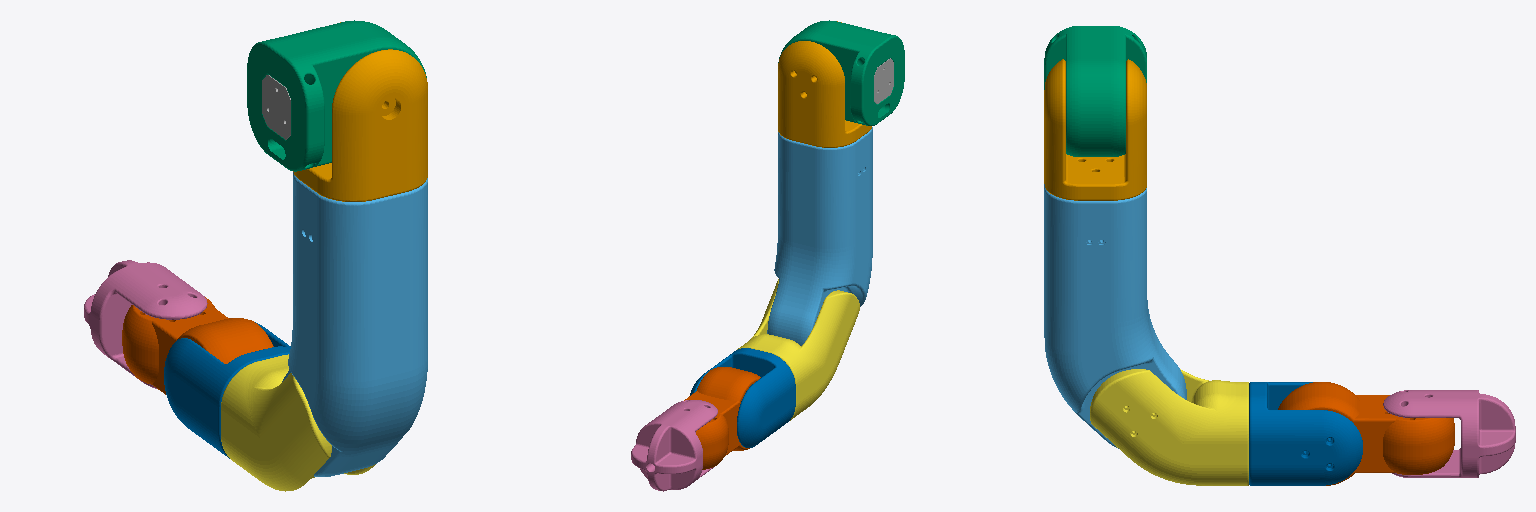
URDF robot description (7dof_arm_urdf):
<?xml version='1.0' encoding='utf-8'?>
<robot name="7dof_arm_urdf">
    <link name="link_2">
        <inertial>
            <origin xyz="-1.7693991036793477e-08 0.030447123216703793 -0.021207057709841323" rpy="0.0 3.068183415811079e-92 0.0" />
            <mass value="1.4180166849051117" />
            <inertia ixx="0.0024972293827466565" iyy="0.0018679172081846728" izz="0.0019315417071146968" ixy="1.6185008238148169e-10" iyz="0.0001634853989722477" ixz="-3.0395039837902843e-10" />
        </inertial>
        <visual name="link_2_visual">
            <origin xyz="2.338000895107939e-09 0.06749999625744532 -0.024999998100069157" rpy="1.5707963267948972 -1.0547118733939009e-15 -1.1832913578315205e-30" />
            <geometry>
                <mesh filename="meshes/link_2.stl" scale="0.001 0.001 0.001" />
            </geometry>
        </visual>
        <collision name="link_2_collision">
            <origin xyz="2.338000895107939e-09 0.06749999625744532 -0.024999998100069157" rpy="1.5707963267948972 -1.0547118733939009e-15 -1.1832913578315205e-30" />
            <geometry>
                <mesh filename="meshes/link_2.stl" scale="0.001 0.001 0.001" />
            </geometry>
        </collision>
    </link>
    <link name="link_3">
        <inertial>
            <origin xyz="-0.0009218627484753661 -0.007510193707583538 0.11383274087448687" rpy="0.0 -0.0 -2.0237541073208316e-122" />
            <mass value="2.848249425843059" />
            <inertia ixx="0.016481837841075098" iyy="0.01562585430140996" izz="0.005075439922028" ixy="-7.606917345098036e-05" iyz="0.0017324977563032812" ixz="0.0002262609093790502" />
        </inertial>
        <visual name="link_3_visual">
            <origin xyz="2.337996063417336e-09 -1.899930914817105e-09 -3.742554604002635e-09" rpy="-3.1415926535897922 -3.301015452773867e-15 -1.5707963267948972" />
            <geometry>
                <mesh filename="meshes/link_3.stl" scale="0.001 0.001 0.001" />
            </geometry>
        </visual>
        <collision name="link_3_collision">
            <origin xyz="2.337996063417336e-09 -1.899930914817105e-09 -3.742554604002635e-09" rpy="-3.1415926535897922 -3.301015452773867e-15 -1.5707963267948972" />
            <geometry>
                <mesh filename="meshes/link_3.stl" scale="0.001 0.001 0.001" />
            </geometry>
        </collision>
    </link>
    <link name="link_1">
        <inertial>
            <origin xyz="0.0006194072793618363 -0.001889358035801337 -0.0419160487646974" rpy="0.0 -0.0 0.0" />
            <mass value="1.3925275103020305" />
            <inertia ixx="0.002315118342215877" iyy="0.002717668816947608" izz="0.0016480250709600718" ixy="-1.6163633902592246e-06" iyz="-7.612479254556377e-05" ixz="-2.9672397305629764e-05" />
        </inertial>
        <visual name="link_1_visual">
            <origin xyz="3.742554532948361e-09 1.8999353557092036e-09 -2.3379961433533937e-09" rpy="-3.944304526105062e-31 1.5707963267948954 0" />
            <geometry>
                <mesh filename="meshes/link_1.stl" scale="0.001 0.001 0.001" />
            </geometry>
        </visual>
        <collision name="link_1_collision">
            <origin xyz="3.742554532948361e-09 1.8999353557092036e-09 -2.3379961433533937e-09" rpy="-3.944304526105062e-31 1.5707963267948954 0" />
            <geometry>
                <mesh filename="meshes/link_1.stl" scale="0.001 0.001 0.001" />
            </geometry>
        </collision>
    </link>
    <link name="link_4">
        <inertial>
            <origin xyz="-0.0231322409500729 -0.018212359551176577 -0.030572046034022114" rpy="0.0 -1.9446922743316068e-62 0.0" />
            <mass value="1.5395203844081724" />
            <inertia ixx="0.0029300891820533415" iyy="0.0031140632140326807" izz="0.002525997748660219" ixy="-5.289277398713016e-05" iyz="-0.000706407117841569" ixz="-9.224090249769414e-05" />
        </inertial>
        <visual name="link_4_visual">
            <origin xyz="-0.024999997662003892 -0.031715725009982945 -0.09171573065246992" rpy="-1.570796326794896 1.042467280415076e-15 -8.035944325293711e-16" />
            <geometry>
                <mesh filename="meshes/link_4.stl" scale="0.001 0.001 0.001" />
            </geometry>
        </visual>
        <collision name="link_4_collision">
            <origin xyz="-0.024999997662003892 -0.031715725009982945 -0.09171573065246992" rpy="-1.570796326794896 1.042467280415076e-15 -8.035944325293711e-16" />
            <geometry>
                <mesh filename="meshes/link_4.stl" scale="0.001 0.001 0.001" />
            </geometry>
        </collision>
    </link>
    <link name="link_5">
        <inertial>
            <origin xyz="0.003070157025462681 -5.774206357500589e-09 0.034789253571534555" rpy="0.0 -0.0 0.0" />
            <mass value="1.0531225783475597" />
            <inertia ixx="0.001113284255963104" iyy="0.0015474869862993415" izz="0.0012344104990592991" ixy="-1.590082232549861e-13" iyz="-1.7569661003857817e-11" ixz="-8.100835219155937e-05" />
        </inertial>
        <visual name="link_5_visual">
            <origin xyz="2.3379961433533937e-09 -4.990017039574468e-09 6.524698825671749e-10" rpy="1.5707963267948941 -1.332267629550185e-15 8.0359443252937215e-16" />
            <geometry>
                <mesh filename="meshes/link_5.stl" scale="0.001 0.001 0.001" />
            </geometry>
        </visual>
        <collision name="link_5_collision">
            <origin xyz="2.3379961433533937e-09 -4.990017039574468e-09 6.524698825671749e-10" rpy="1.5707963267948941 -1.332267629550185e-15 8.0359443252937215e-16" />
            <geometry>
                <mesh filename="meshes/link_5.stl" scale="0.001 0.001 0.001" />
            </geometry>
        </collision>
    </link>
    <link name="link_6">
        <inertial>
            <origin xyz="-0.000925084296177765 0.03309403210323428 0.02583243060191874" rpy="0.0 -0.0 0.0" />
            <mass value="1.0543587048159324" />
            <inertia ixx="0.0024452046783401613" iyy="0.0008834881284229823" izz="0.002602581566371609" ixy="4.0878075826186744e-05" iyz="3.33339361070599e-05" ixz="-8.123533158307938e-07" />
        </inertial>
        <visual name="link_6_visual">
            <origin xyz="4.990017075101605e-09 6.524696871679226e-10 0.024999997662003785" rpy="-2.512544573595163e-15 1.570796326794895 0" />
            <geometry>
                <mesh filename="meshes/link_6.stl" scale="0.001 0.001 0.001" />
            </geometry>
        </visual>
        <collision name="link_6_collision">
            <origin xyz="4.990017075101605e-09 6.524696871679226e-10 0.024999997662003785" rpy="-2.512544573595163e-15 1.570796326794895 0" />
            <geometry>
                <mesh filename="meshes/link_6.stl" scale="0.001 0.001 0.001" />
            </geometry>
        </collision>
    </link>
    <link name="link_end">
        <inertial>
            <origin xyz="2.316398282076193e-09 0.03997464324937734 -0.025112101897318908" rpy="0.0 -0.0 3.8893845486632136e-62" />
            <mass value="1.0612464063224951" />
            <inertia ixx="0.0011075099763673824" iyy="0.0007540648375353037" izz="0.000855633829653174" ixy="4.1580627829773675e-13" iyz="-4.62560326418282e-06" ixz="4.8332948754392646e-11" />
        </inertial>
        <visual name="link_end_visual">
            <origin xyz="2.337996116708041e-09 -0.03499999934753003 -0.024999995010050142" rpy="-3.2455043015426128e-15 8.035944325293723e-16 1.3322676295501853e-15" />
            <geometry>
                <mesh filename="meshes/link_end.stl" scale="0.001 0.001 0.001" />
            </geometry>
        </visual>
        <collision name="link_end_collision">
            <origin xyz="2.337996116708041e-09 -0.03499999934753003 -0.024999995010050142" rpy="-3.2455043015426128e-15 8.035944325293723e-16 1.3322676295501853e-15" />
            <geometry>
                <mesh filename="meshes/link_end.stl" scale="0.001 0.001 0.001" />
            </geometry>
        </collision>
    </link>
    <link name="base_link">
        <inertial>
            <origin xyz="0.00742851645505169 1.663822805641601e-08 -1.979172232711919e-08" rpy="0.0 0.0 0.0" />
            <mass value="0.16663769206709084" />
            <inertia ixx="4.0058066091081665e-05" iyy="2.319196739411254e-05" izz="2.3191561337203156e-05" ixy="8.469185353115266e-13" iyz="-1.5284621944524203e-10" ixz="9.351013056792976e-13" />
        </inertial>
        <visual name="base_link_visual">
            <origin xyz="0.0 0.0 0.0" rpy="0.0 0.0 0.0" />
            <geometry>
                <mesh filename="meshes/base_link.stl" scale="0.001 0.001 0.001" />
            </geometry>
        </visual>
        <collision name="base_link_collision">
            <origin xyz="0.0 0.0 0.0" rpy="0.0 0.0 0.0" />
            <geometry>
                <mesh filename="meshes/base_link.stl" scale="0.001 0.001 0.001" />
            </geometry>
        </collision>
    </link>
    <joint name="joint_1" type="revolute">
        <origin xyz="0.0 0.0 0.0" rpy="-0.0 -1.5707963267948966 0" />
        <parent link="base_link" />
        <child link="link_1" />
        <axis xyz="0.0 0.0 1.0" />
        <limit lower="-3.141592653589793" upper="3.141592653589793" effort="50" velocity="2.0" />
    </joint>

    <joint name="joint_2" type="revolute">
        <origin xyz="0.0 0.025 -0.0675" rpy="-1.5707963267948966 1.5707963267948966 0" />
        <parent link="link_1" />
        <child link="link_2" />
        <axis xyz="4.955440562323868e-61 8.758115402030107e-47 1.0" />
        <limit lower="-3.141592653589793" upper="3.141592653589793" effort="50" velocity="2.0" />
    </joint>

    <joint name="joint_3" type="revolute">
        <origin xyz="0.0 0.0675 -0.025" rpy="-1.5707963267948966 -7.811157206309292e-46 1.7516230804060213e-46" />
        <parent link="link_2" />
        <child link="link_3" />
        <axis xyz="5.254869241218064e-46 -3.944304526105059e-31 1.0" />
        <limit lower="-3.141592653589793" upper="3.141592653589793" effort="50" velocity="2.0" />
    </joint>

    <joint name="joint_4" type="revolute">
        <origin xyz="0.025 -0.035 0.2" rpy="-1.5707963267948966 3.944304526105064e-31 1.0779197584769422e-31" />
        <parent link="link_3" />
        <child link="link_4" />
        <axis xyz="1.0 0.0 3.692514198239168e-32" />
        <limit lower="-3.141592653589793" upper="3.141592653589793" effort="50" velocity="2.0" />
    </joint>

    <joint name="joint_5" type="revolute">
        <origin xyz="-0.025 -0.031715729999999984 -0.09171573000000001" rpy="-3.141592653589793 1.2435947509083532e-31 -2.9582283945787943e-31" />
        <parent link="link_4" />
        <child link="link_5" />
        <axis xyz="1.656749924314189e-32 0.0 1.0" />
        <limit lower="-3.141592653589793" upper="3.141592653589793" effort="50" velocity="2.0" />
    </joint>

    <joint name="joint_6" type="revolute">
        <origin xyz="0.025 0.0 0.059999999999999984" rpy="1.5707963267948966 3.944304526105059e-31 -1.5707963267948966" />
        <parent link="link_5" />
        <child link="link_6" />
        <axis xyz="0.0 5.53506592045704e-32 1.0" />
        <limit lower="-3.141592653589793" upper="3.141592653589793" effort="50" velocity="2.0" />
    </joint>

    <joint name="joint_7" type="revolute">
        <origin xyz="0.025 0.075 0.025" rpy="-0.0 1.5707963267948966 0" />
        <parent link="link_6" />
        <child link="link_end" />
        <axis xyz="9.860761315262648e-32 0.0 1.0" />
        <limit lower="-3.141592653589793" upper="3.141592653589793" effort="50" velocity="2.0" />
    </joint>
</robot>

--- Render facts (derived) ---
Views: 3 orthographic renders of the robot side by side, from view 1: azimuth 30°, elevation 25°; view 2: azimuth 150°, elevation 25°; view 3: azimuth 270°, elevation 25°.
Robot: 7dof_arm_urdf — 8 links, 7 joints (7 revolute); root link base_link; default pose: all joints at 0.
Links seen in each view (by area): view 1: link_3, link_2, link_1, link_4, link_end, link_6, link_5, base_link; view 2: link_3, link_2, link_1, link_4, link_end, link_5, link_6, base_link; view 3: link_3, link_4, link_5, link_1, link_2, link_6, link_end.
Boxes of the visible links, <box> form: link_3: <box>282,172,427,476</box>; link_2: <box>293,22,427,201</box>; link_1: <box>247,20,426,171</box>; link_4: <box>221,354,375,491</box>; link_end: <box>84,260,207,388</box>; link_6: <box>122,297,273,394</box>; link_5: <box>164,322,290,458</box>; base_link: <box>262,75,290,139</box>; link_3: <box>767,127,872,345</box>; link_2: <box>778,21,871,147</box>; link_1: <box>778,20,904,125</box>; link_4: <box>737,279,859,420</box>; link_end: <box>631,400,717,491</box>; link_5: <box>690,348,795,447</box>; link_6: <box>684,367,760,469</box>; base_link: <box>874,58,893,103</box>; link_3: <box>1044,184,1186,448</box>; link_4: <box>1090,369,1248,485</box>; link_5: <box>1249,382,1362,485</box>; link_1: <box>1044,26,1146,156</box>; link_2: <box>1044,59,1146,200</box>; link_6: <box>1278,382,1454,485</box>; link_end: <box>1383,390,1515,477</box>.
Size in the robot's own frame: 0.11 by 0.3892 by 0.3817 metres.
8 mesh visuals loaded from 8 distinct referenced files (8 binary STL).
